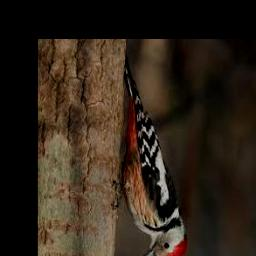Woodpecker: (112, 54, 187, 256)
